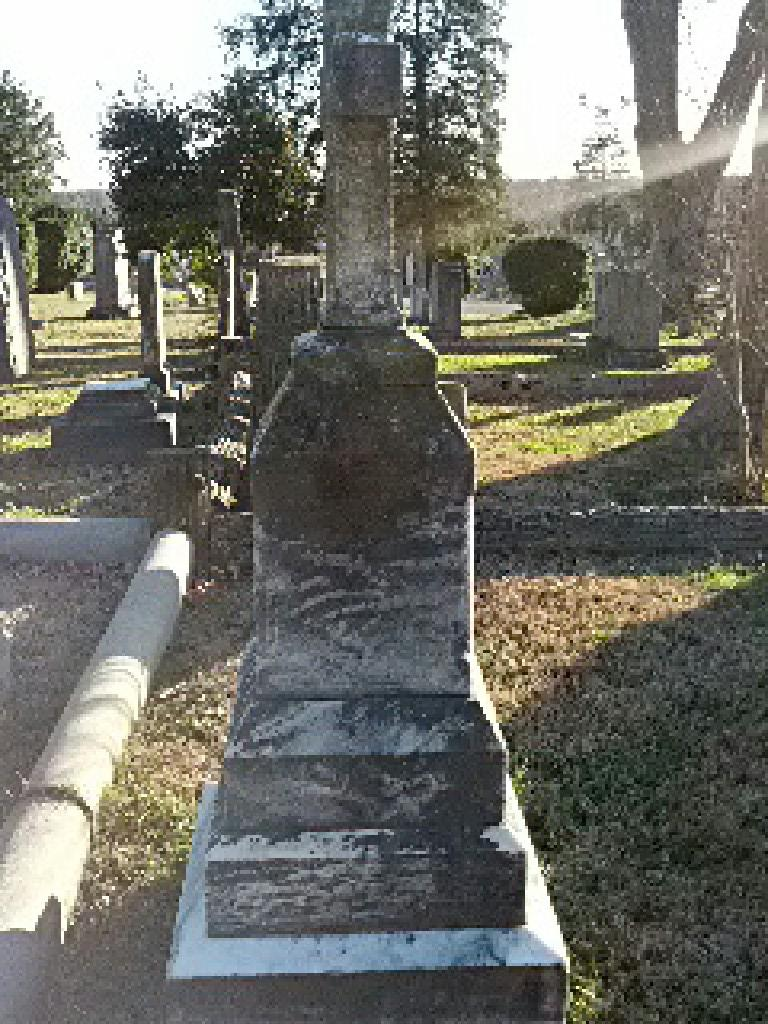obelisk: (204, 0, 525, 939)
